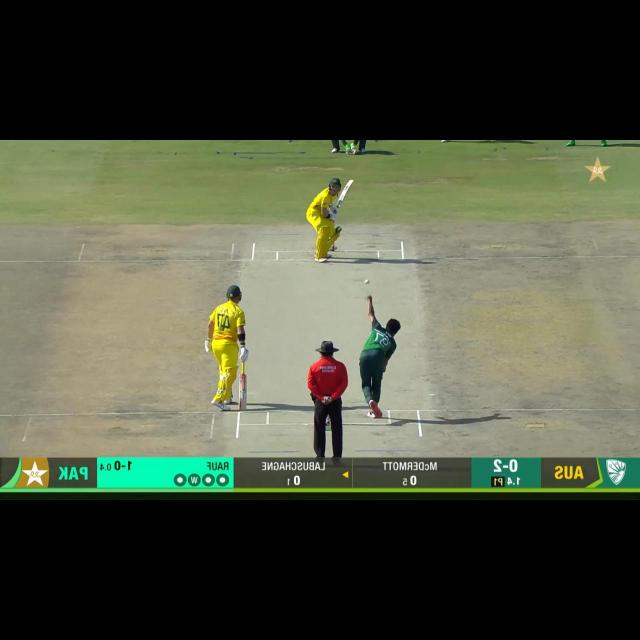bat: (335, 180, 353, 209), (238, 374, 248, 412)
toe: (237, 404, 248, 411), (346, 179, 355, 186)
